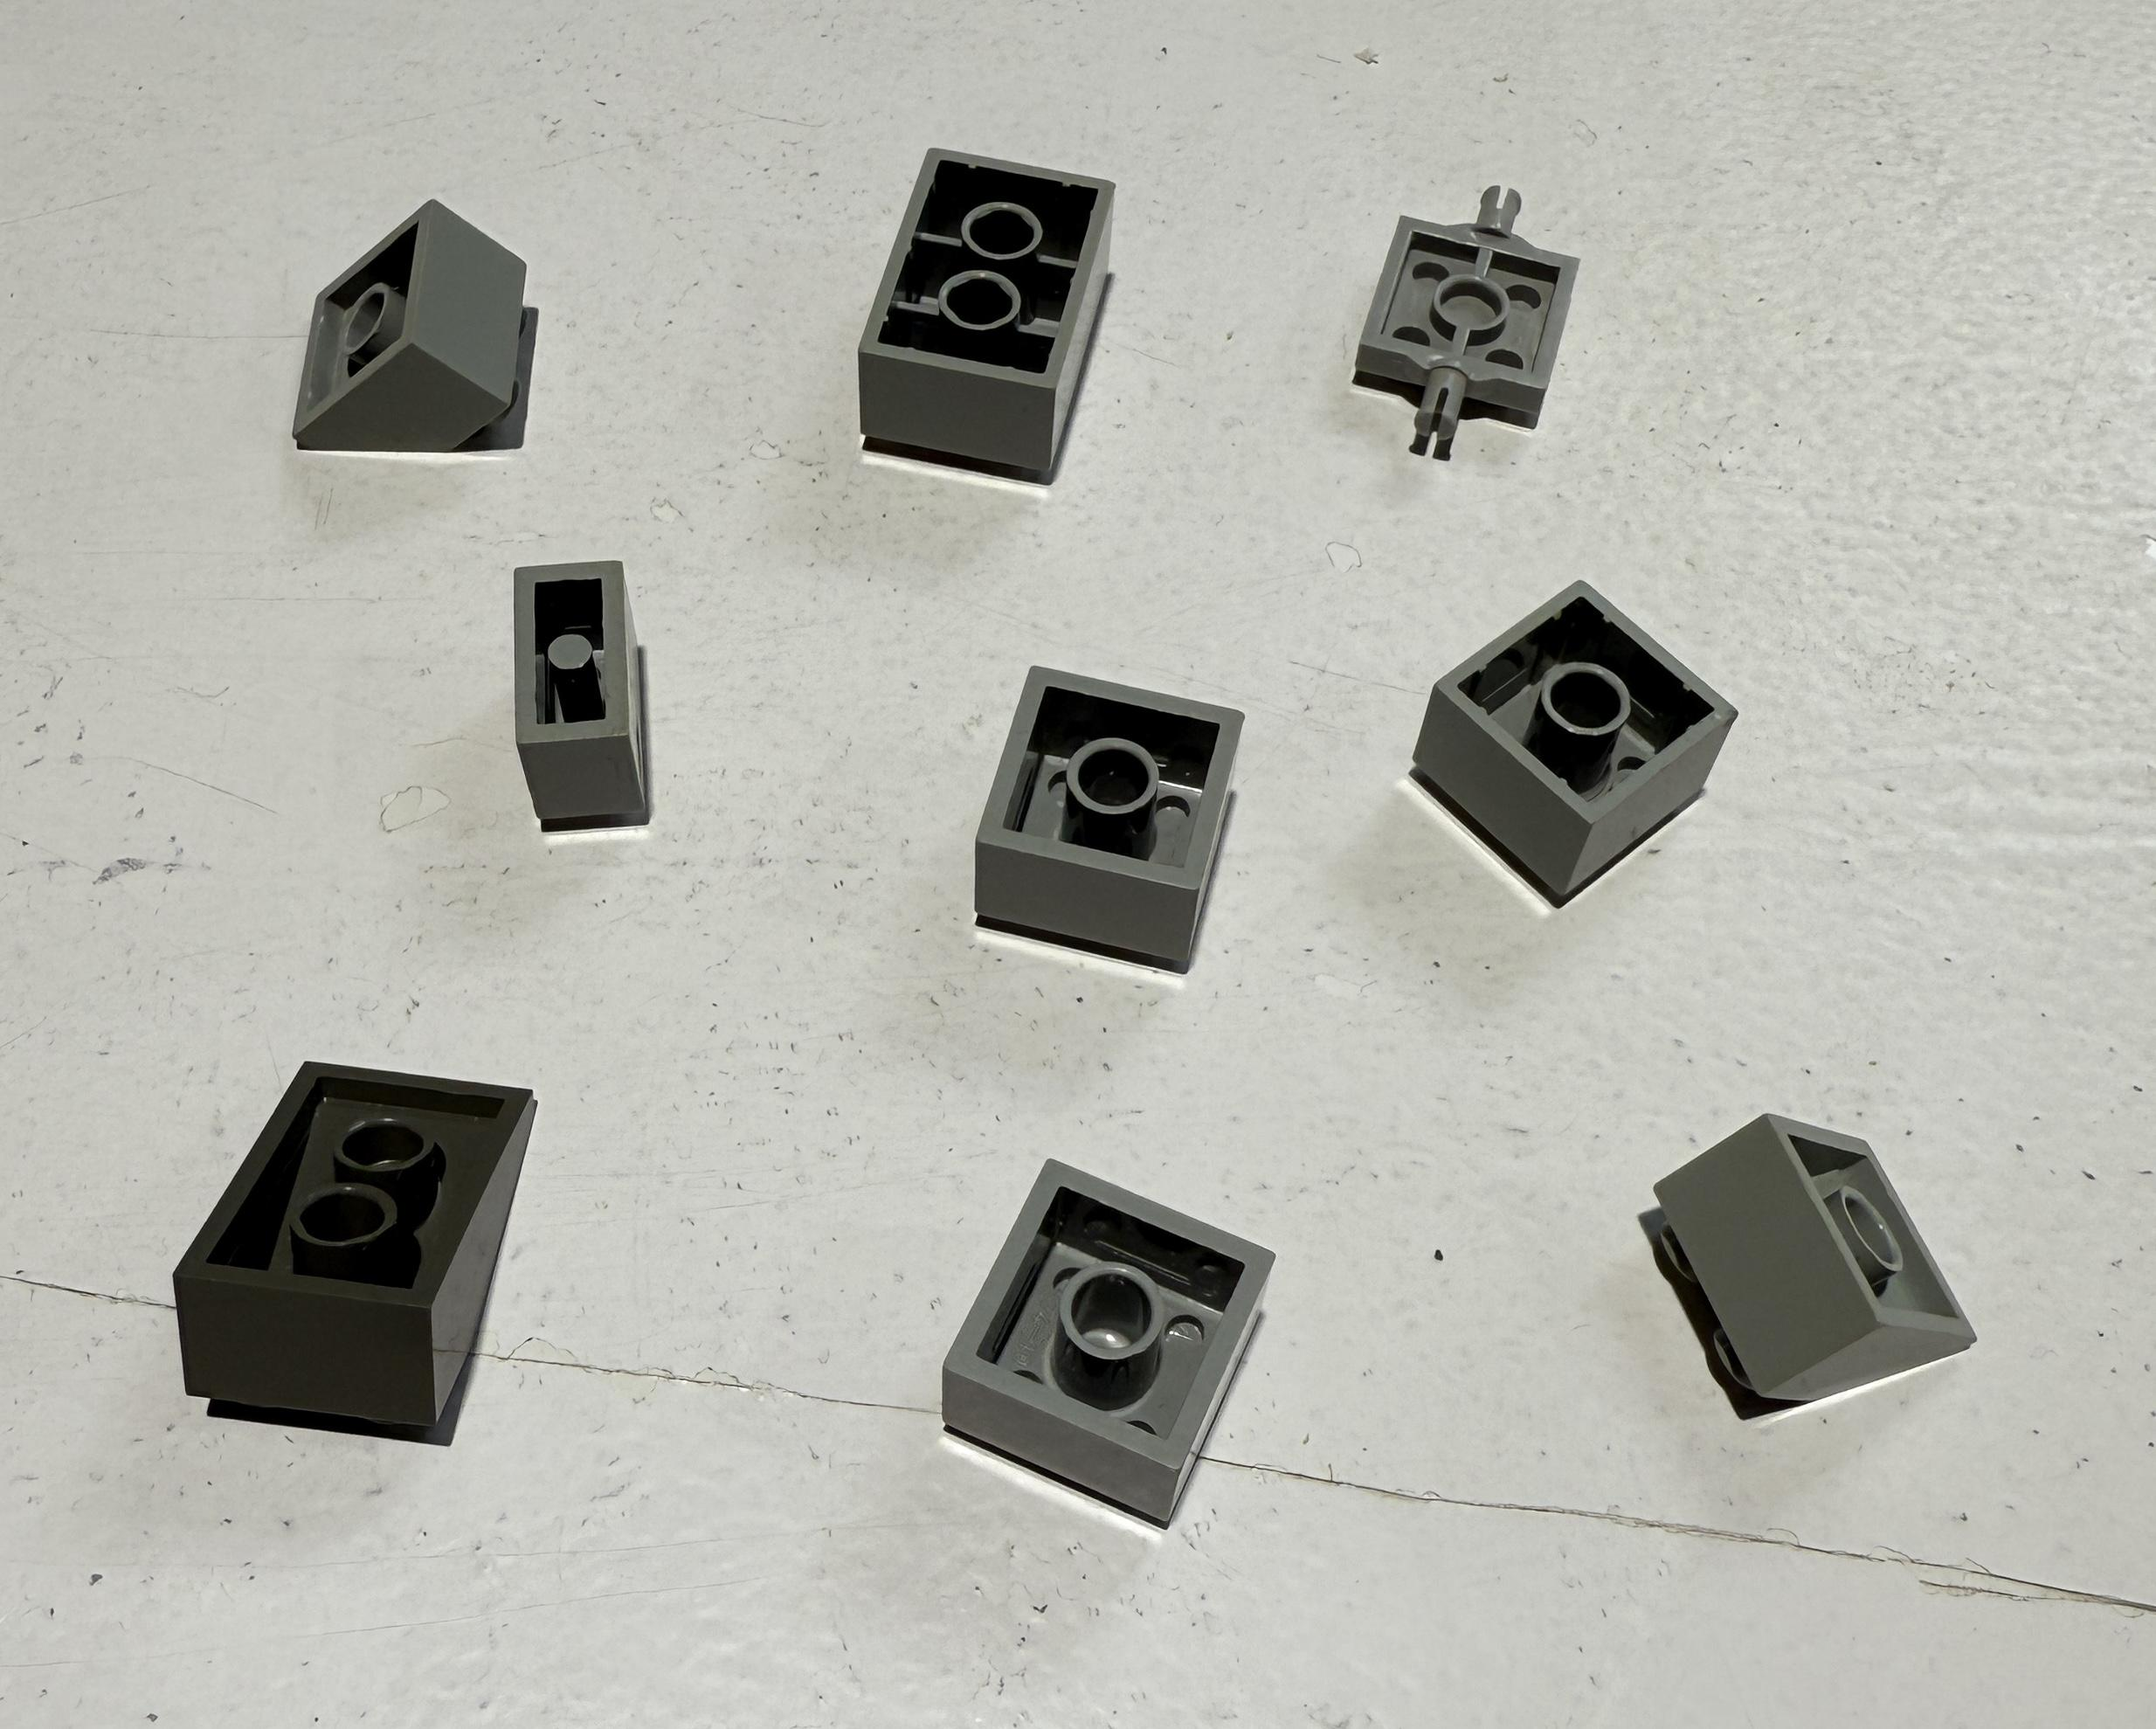Special_02: (1609, 1092, 2052, 1473), (236, 162, 596, 498)
brick_1x2: (489, 528, 692, 857)
brick_2x2: (919, 1138, 1299, 1551), (1387, 568, 1763, 926), (942, 640, 1281, 990)
brick_2x3: (824, 116, 1177, 512)
